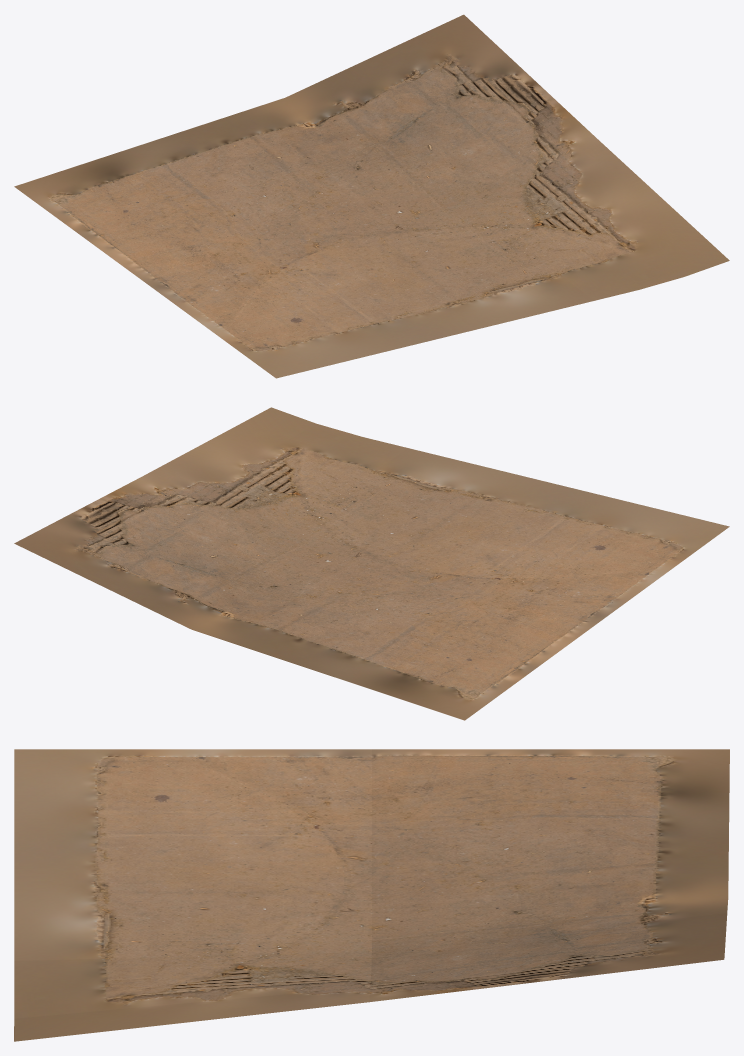
Rendered from sm_Cardboard_01_03.fbx.
3 renders of one model, top to bottom at view 1: azimuth 30°, elevation 25°; view 2: azimuth 150°, elevation 25°; view 3: azimuth 270°, elevation 25°, orthographic. The views are drawn at different scales.
Parts seen in each view (by area): view 1: sm_Cardboard_01_03_LOD0; view 2: sm_Cardboard_01_03_LOD0; view 3: sm_Cardboard_01_03_LOD0.
Part boxes in pixels (x1,y1,x2,y2): sm_Cardboard_01_03_LOD0: (14, 14, 729, 378); sm_Cardboard_01_03_LOD0: (14, 407, 729, 720); sm_Cardboard_01_03_LOD0: (14, 749, 729, 1041).
Bounding box in the file's own units: 63.22 × 63.3 × 8.57.
